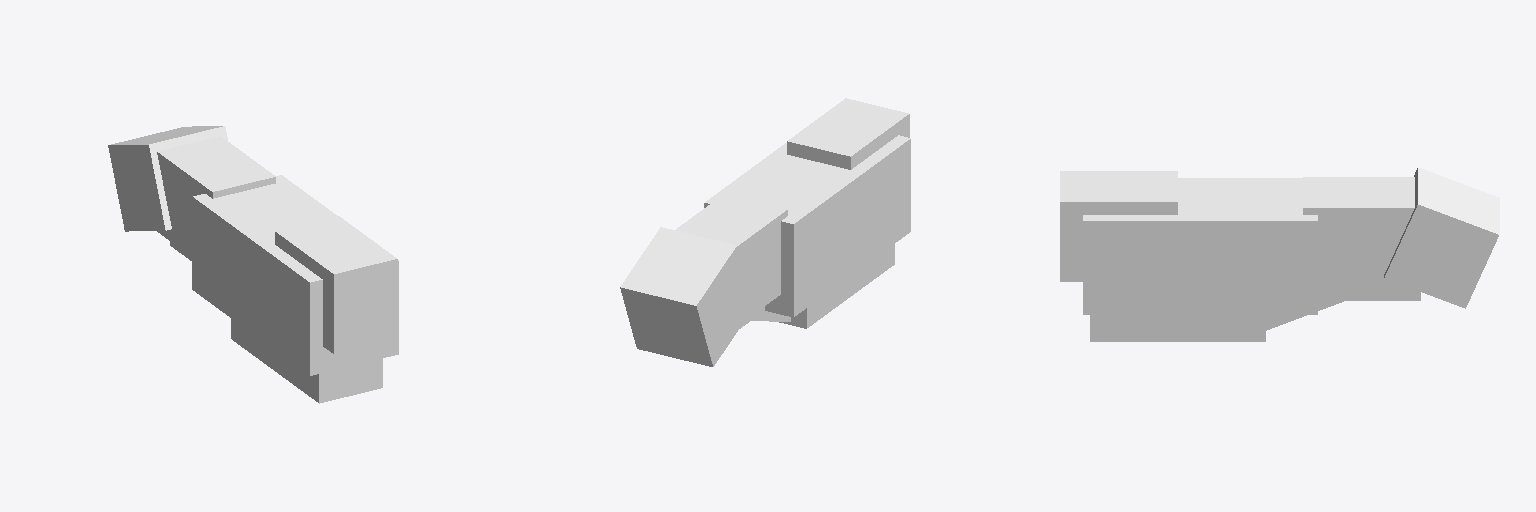
File: cheetah_body.obj
The picture shows the model from 3 angles: view 1: azimuth 30°, elevation 25°; view 2: azimuth 150°, elevation 25°; view 3: azimuth 270°, elevation 25°; orthographic projection.
Parts seen in each view (by area): view 1: Element #43, Element #42, Element #9, Element #41, Element #36; view 2: Element #43, Element #41, Element #9, Element #42, Element #36; view 3: Element #43, Element #41, Element #9, Element #42, Element #36, Element #25, Element #8.
Part boxes in pixels (x1,y1,x2,y2): Element #43: (192, 175, 398, 375); Element #42: (275, 216, 397, 353); Element #9: (157, 136, 275, 256); Element #41: (108, 126, 227, 231); Element #36: (231, 319, 382, 403); Element #43: (704, 135, 910, 317); Element #41: (620, 227, 753, 366); Element #9: (676, 194, 787, 320); Element #42: (787, 98, 909, 169); Element #36: (779, 244, 894, 328); Element #43: (1083, 178, 1317, 314); Element #41: (1384, 167, 1499, 308); Element #9: (1303, 177, 1414, 288); Element #42: (1060, 171, 1177, 281); Element #36: (1090, 315, 1265, 341); Element #25: (1266, 289, 1360, 330); Element #8: (1347, 289, 1420, 300).
Size of the model in its own units: 7 by 10.54 by 29.84.